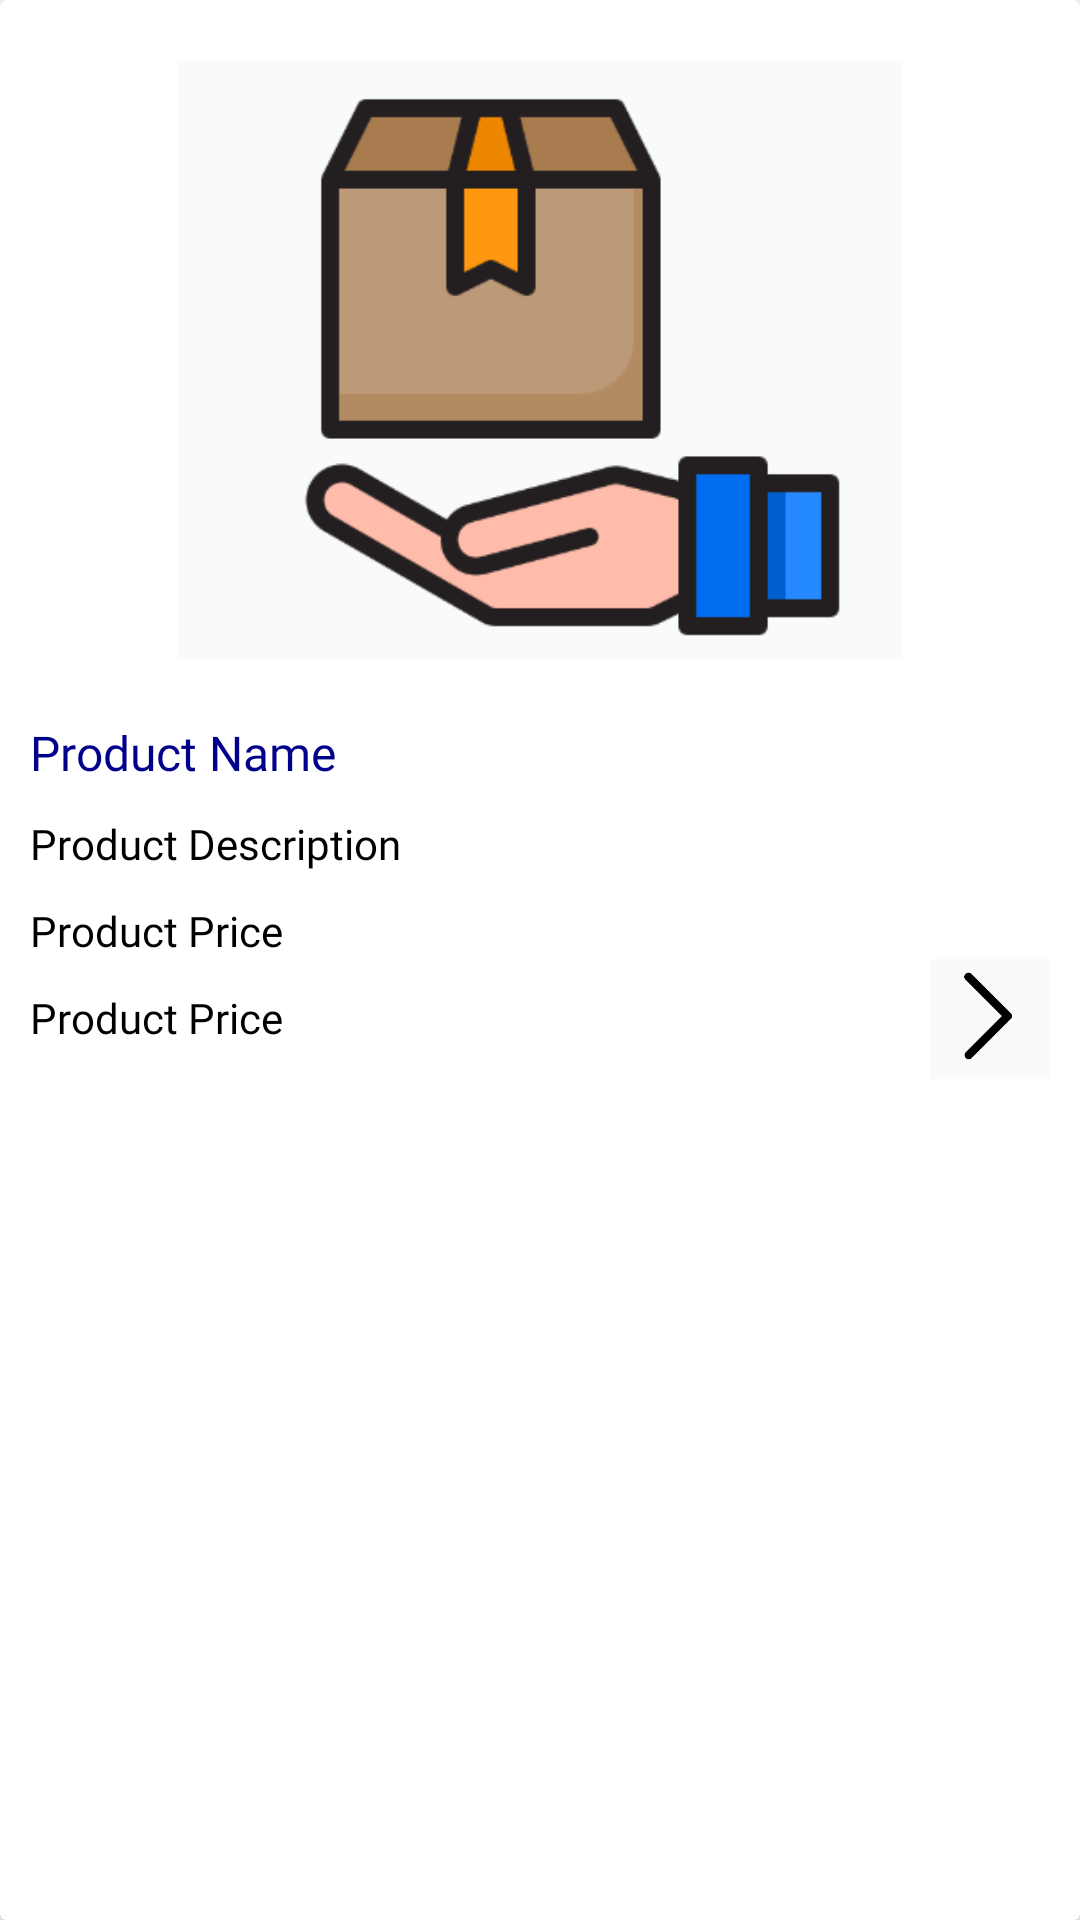

Screen size 1080px×1920px. Icon name, then its center in pixels as (x=x, y=y):
right arrow: (x=988, y=1016)
